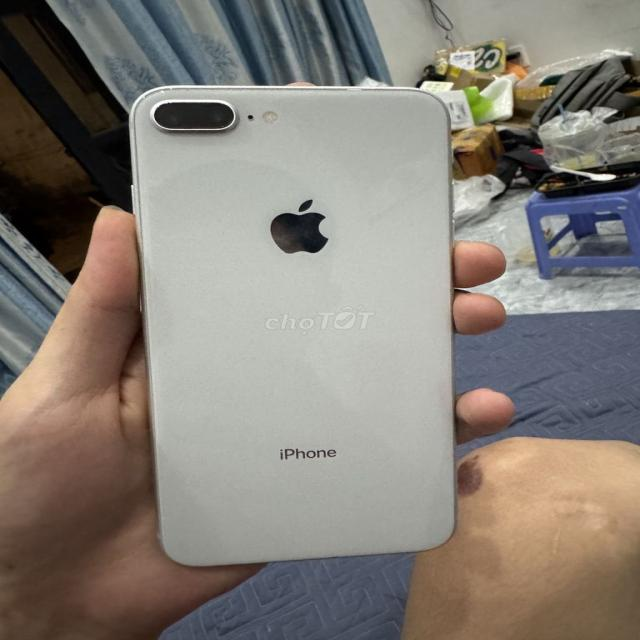scratch: (128, 85, 332, 96), (149, 100, 185, 108)
